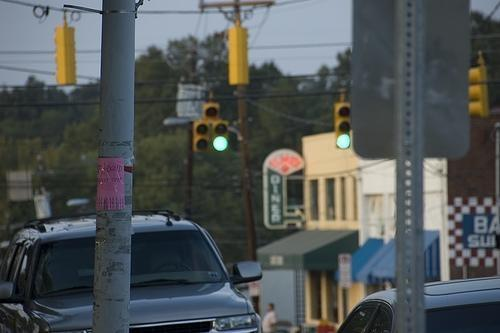car: (1, 212, 268, 333), (336, 275, 500, 333)
truck: (1, 212, 262, 330)
